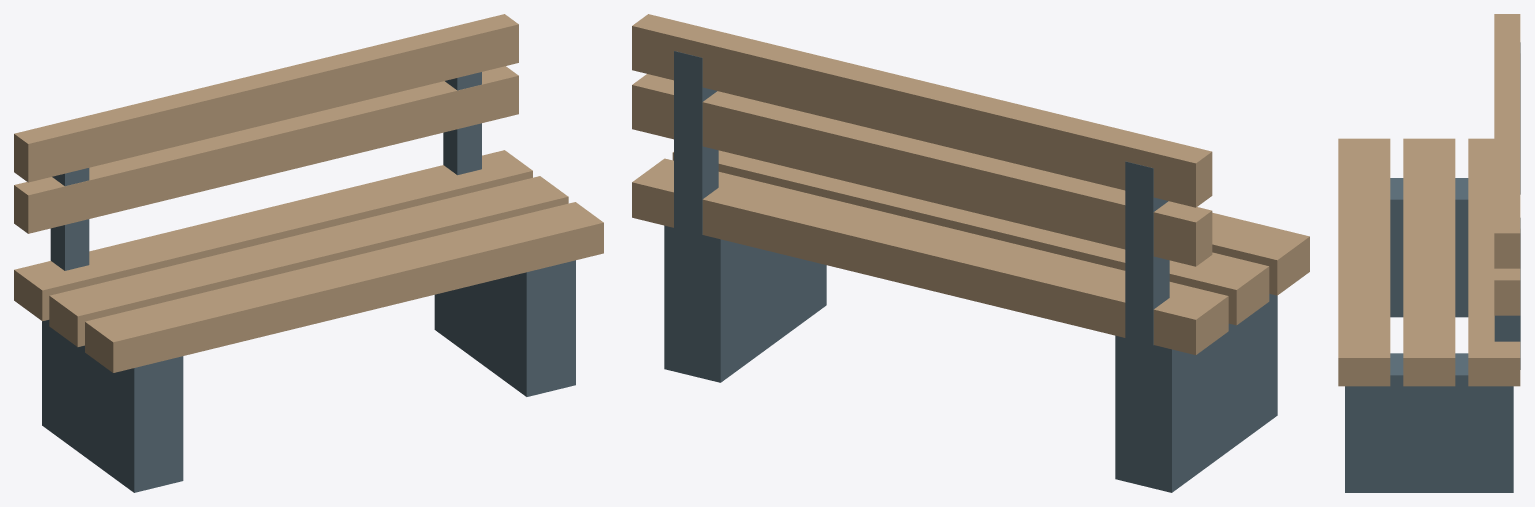
Rendered from voxel-city-districts-slat-bench-a2204c4c__24852.glb.
The picture shows the model from 3 angles, left to right: view 1: azimuth 30°, elevation 25°; view 2: azimuth 150°, elevation 25°; view 3: azimuth 270°, elevation 25°; orthographic projection. The views are drawn at different scales.
Parts seen in each view (by area): view 1: slat-bench-wood, slat-bench-dark; view 2: slat-bench-wood, slat-bench-dark; view 3: slat-bench-wood, slat-bench-dark.
Part boxes in pixels (box(x1,y1,x2,y2)): slat-bench-wood: box(14, 14, 603, 372); slat-bench-dark: box(42, 72, 575, 492); slat-bench-wood: box(632, 14, 1309, 355); slat-bench-dark: box(664, 51, 1277, 492); slat-bench-wood: box(1338, 14, 1520, 386); slat-bench-dark: box(1345, 42, 1520, 492).
Size of the model in its own units: 2 by 1.15 by 0.7012.
